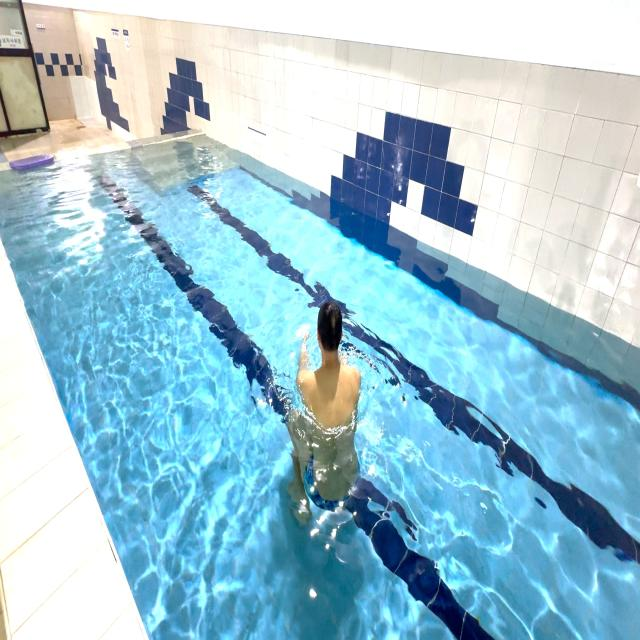Swimming: (269, 278, 379, 532)
